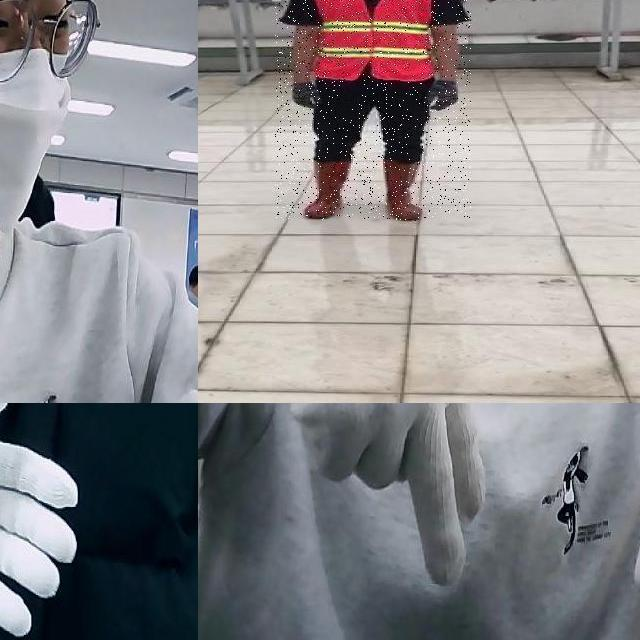BOOTS: (306, 158, 351, 220), (382, 159, 425, 221)
GLOVE: (198, 403, 486, 588), (0, 403, 80, 640), (426, 81, 459, 111), (292, 84, 322, 109)
VEST: (316, 0, 438, 81)
